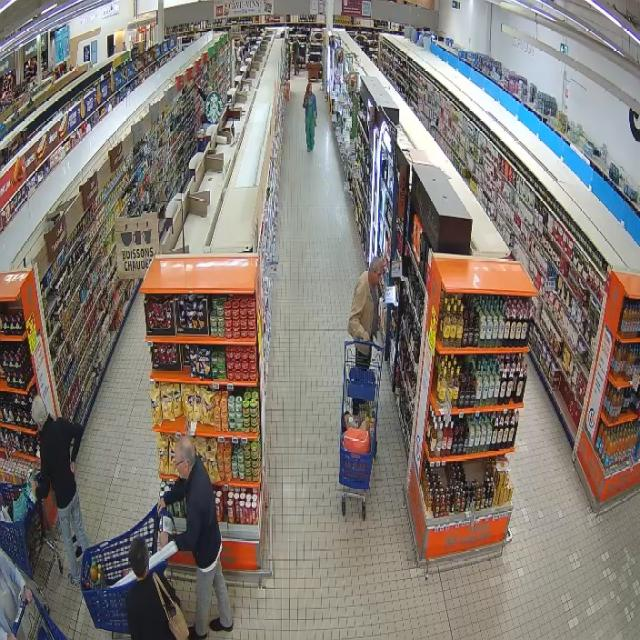bags: (153, 574, 189, 639)
hands: (159, 531, 169, 548), (22, 588, 32, 603), (158, 498, 165, 514), (31, 479, 38, 493), (70, 462, 76, 474), (363, 332, 370, 342), (8, 633, 16, 639)
person: (159, 436, 232, 638), (32, 396, 89, 585), (126, 538, 174, 639), (348, 257, 384, 342), (0, 551, 32, 639)
